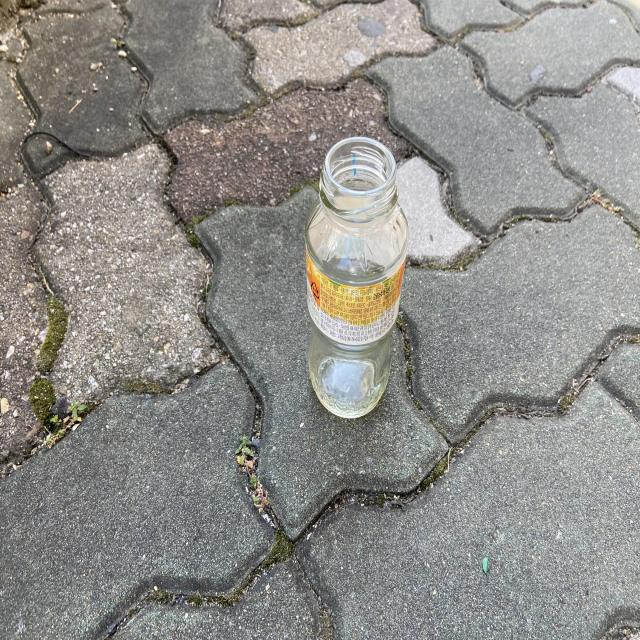glass: (305, 136, 409, 418)
